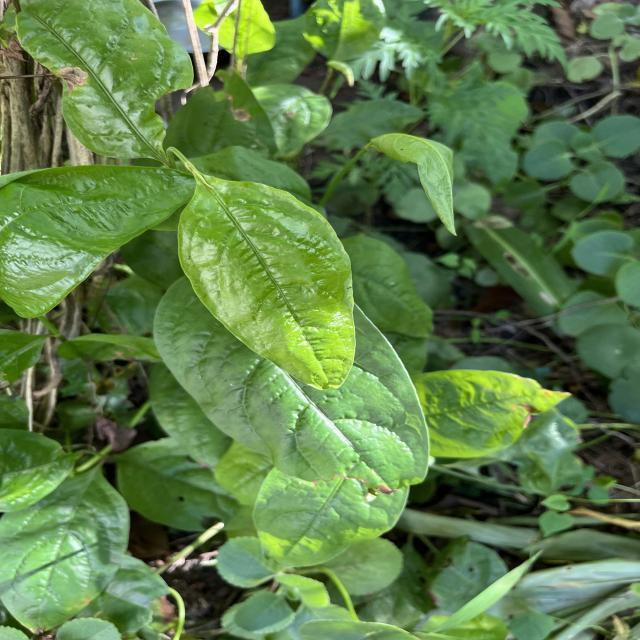Plumbago indica: (172, 176, 361, 394), (0, 160, 193, 322), (11, 0, 202, 161), (0, 457, 132, 640), (418, 359, 582, 462)
